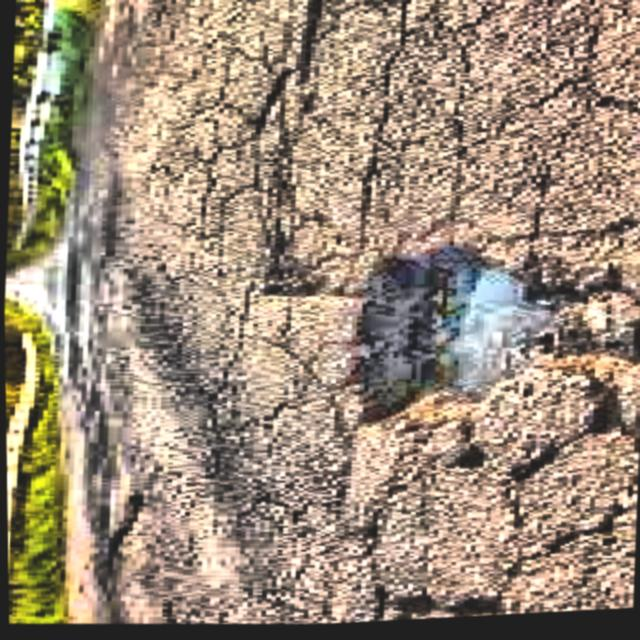Cracks: (325, 251, 549, 426)
